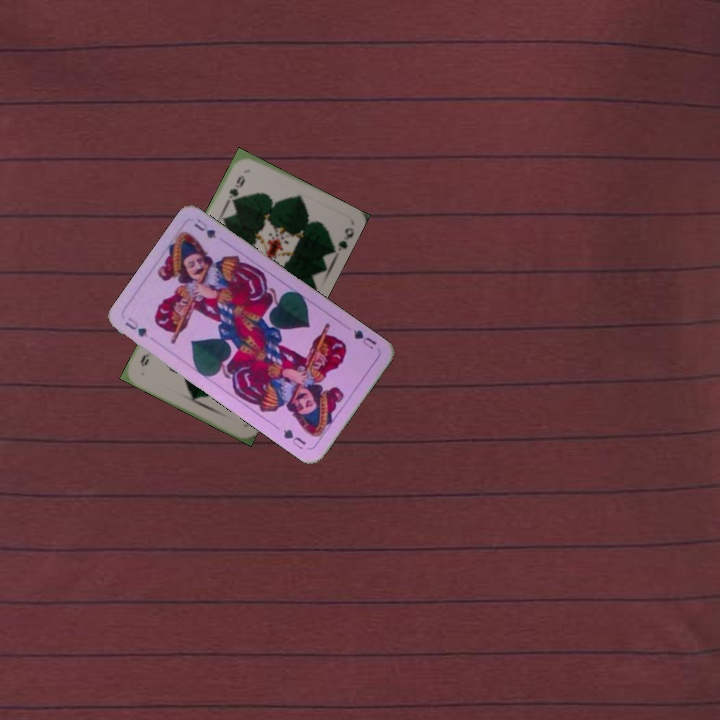G9: (223, 171, 247, 206)
GU: (347, 325, 379, 352), (121, 313, 150, 340)
